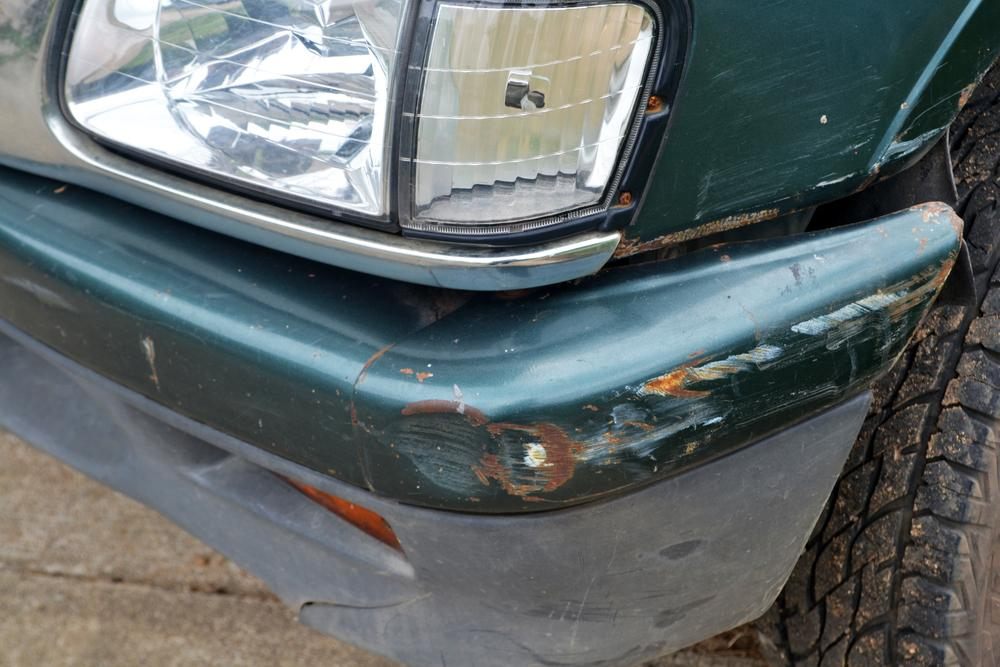crack: (296, 592, 434, 618)
scratch: (387, 250, 963, 503), (689, 41, 892, 225), (508, 535, 725, 667)
